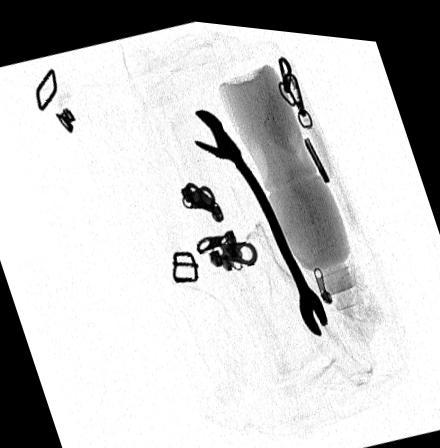Wrench: (191, 104, 325, 330)
